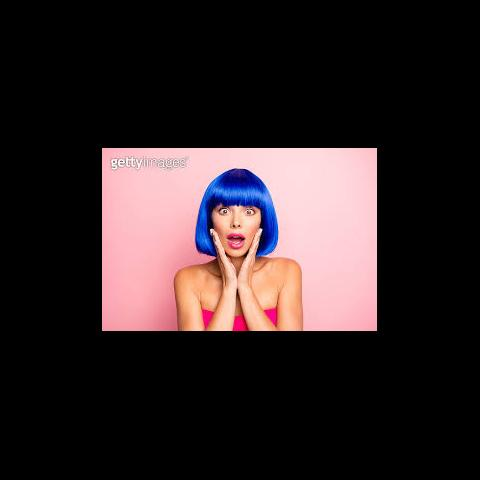opened: (214, 203, 257, 222)
